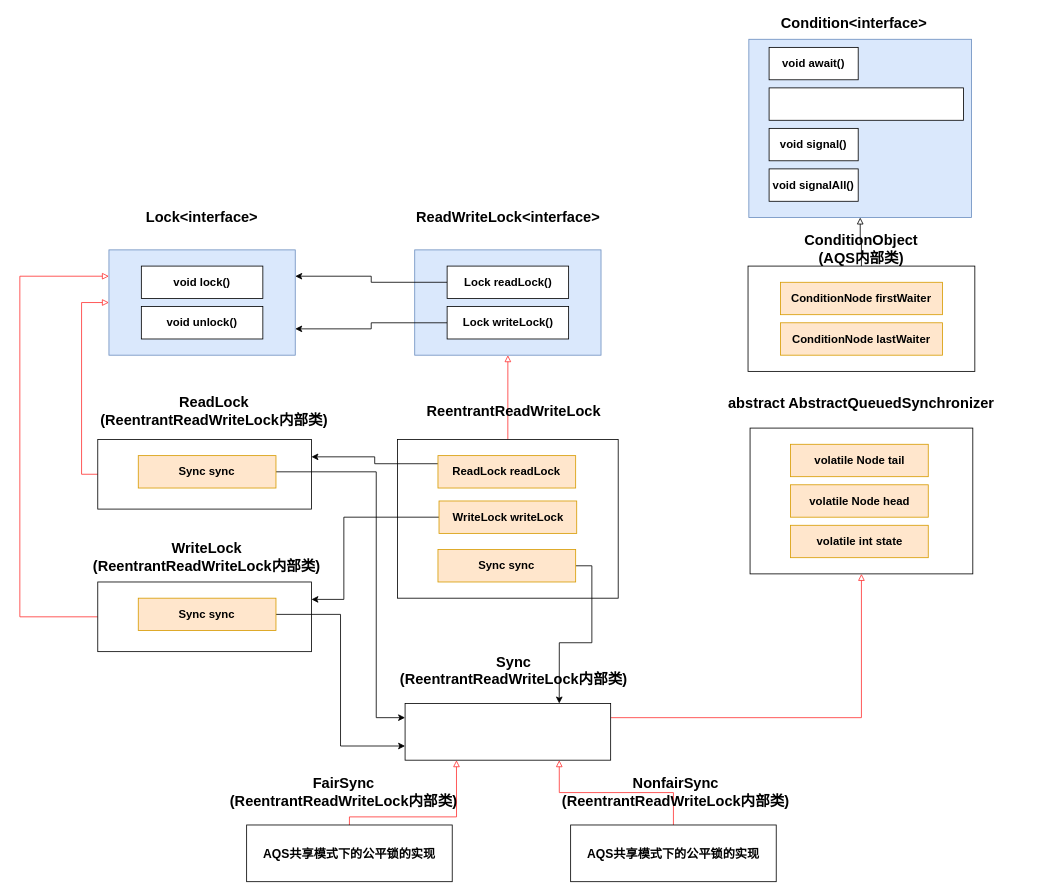
The diagram is 1038 pixels wide and 896 high, and some of its shapes have lost their labels. The box of each missing label's shape, as (x1, y1, x2, y2) in pixels:
AQS共享模式的实现: (404, 703, 611, 760)
void await(long time,TimeUnit unit): (768, 87, 963, 120)
